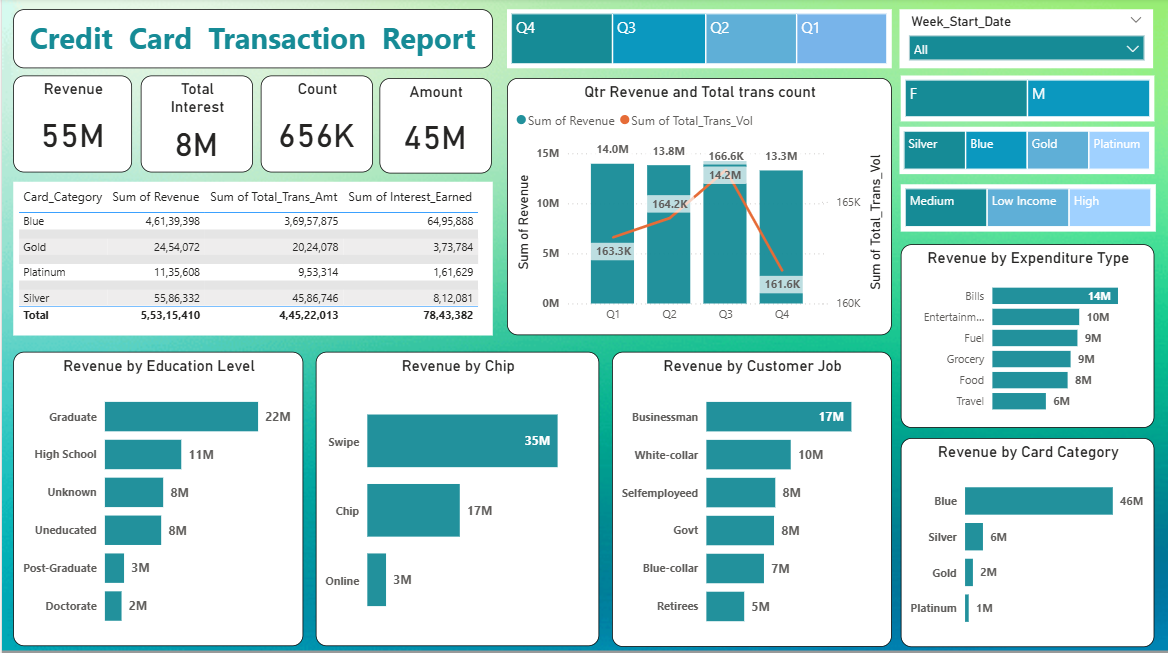

What the dashboard file says about the page in this screenshot:
{"tool":"powerbi","page":{"name":"Credit Card Transaction","canvas":[1280,720],"ordinal":1},"visuals":[{"type":"textbox","box":[12.1,12.1,526,65.1],"z":0},{"type":"lineStackedColumnComboChart","title":"Qtr Revenue and Total trans count","fields":{"Category":["credit_card.Qtr"],"Y":["Sum(credit_card.Revenue)"],"Y2":["Sum(credit_card.Total_Trans_Vol)"]},"box":[554.4,87.8,422.6,282.7],"z":1000},{"type":"barChart","title":"Revenue by Expenditure Type","fields":{"Y":["Sum(credit_card.Revenue)"],"Category":["credit_card.Exp Type"]},"box":[986.9,270.2,278.7,201.5],"z":2000},{"type":"barChart","title":"Revenue by Education Level","fields":{"Y":["Sum(credit_card.Revenue)"],"Category":["Cust_Detail.Education_Level"]},"box":[12.1,388.5,318.5,323.3],"z":3000},{"type":"barChart","title":"Revenue by Customer Job","fields":{"Y":["Sum(credit_card.Revenue)"],"Category":["Cust_Detail.Customer_Job"]},"box":[669.6,388.3,307.4,323.8],"z":4000},{"type":"barChart","title":"Revenue by Card Category","fields":{"Y":["Sum(credit_card.Revenue)"],"Category":["credit_card.Card_Category"]},"box":[986.9,482.6,278.7,229.2],"z":5000},{"type":"barChart","title":"Revenue by Chip","fields":{"Y":["Sum(credit_card.Revenue)"],"Category":["credit_card.Use Chip"]},"box":[345,388.5,311.3,323.3],"z":6000},{"type":"card","title":"Revenue","fields":{"Values":["Sum(credit_card.Revenue)"]},"box":[12.1,84.5,130.3,106.2],"z":7000},{"type":"card","title":"Amount","fields":{"Values":["Sum(credit_card.Total_Trans_Amt)"]},"box":[415,88.1,123.1,105],"z":8000},{"type":"card","title":"Total Interest","fields":{"Values":["Sum(credit_card.Interest_Earned)"]},"box":[152,84.5,123.1,106.2],"z":9000},{"type":"card","title":"Count","fields":{"Values":["Sum(credit_card.Total_Trans_Vol)"]},"box":[283.5,84.5,123.1,106.2],"z":10000},{"type":"slicer","fields":{"Values":["credit_card.Week_Start_Date"]},"box":[985.7,12.1,278.7,65.1],"z":11000},{"type":"treemap","fields":{"Group":["credit_card.Qtr"],"Values":["Avg(credit_card.Client_Num)"]},"box":[555,12.1,422.3,65.1],"z":12000},{"type":"treemap","fields":{"Group":["Cust_Detail.Gender"],"Values":["Avg(credit_card.Client_Num)"]},"box":[986.9,84.5,278.7,50.7],"z":13000},{"type":"treemap","fields":{"Group":["Cust_Detail.Income Group"],"Values":["Avg(credit_card.Client_Num)"]},"box":[986.9,203.9,279.9,51.9],"z":14000},{"type":"treemap","fields":{"Group":["credit_card.Card_Category"],"Values":["Avg(credit_card.Client_Num)"]},"box":[985.7,141.2,279.9,51.9],"z":15000},{"type":"tableEx","fields":{"Values":["credit_card.Card_Category","Sum(credit_card.Revenue)","Sum(credit_card.Total_Trans_Amt)","Sum(credit_card.Interest_Earned)"]},"box":[12.1,201.5,526,168.9],"z":16000}]}

Visuals, with their boxes in screenshot pixels (x1, y1, x2, y2), scaled from the page's 1280x720 canvas onto the 1168x653 screenshot:
textbox: 11:11:491:70
"Qtr Revenue and Total trans count" lineStackedColumnComboChart: 506:80:892:336
"Revenue by Expenditure Type" barChart: 901:245:1155:428
"Revenue by Education Level" barChart: 11:352:302:646
"Revenue by Customer Job" barChart: 611:352:892:646
"Revenue by Card Category" barChart: 901:438:1155:646
"Revenue by Chip" barChart: 315:352:599:646
"Revenue" card: 11:77:130:173
"Amount" card: 379:80:491:175
"Total Interest" card: 139:77:251:173
"Count" card: 259:77:371:173
slicer - credit_card.Week_Start_Date: 899:11:1154:70
treemap - credit_card.Qtr x Avg(credit_card.Client_Num): 506:11:892:70
treemap - Cust_Detail.Gender x Avg(credit_card.Client_Num): 901:77:1155:123
treemap - Cust_Detail.Income Group x Avg(credit_card.Client_Num): 901:185:1156:232
treemap - credit_card.Card_Category x Avg(credit_card.Client_Num): 899:128:1155:175
tableEx - credit_card.Card_Category x Sum(credit_card.Revenue): 11:183:491:336
